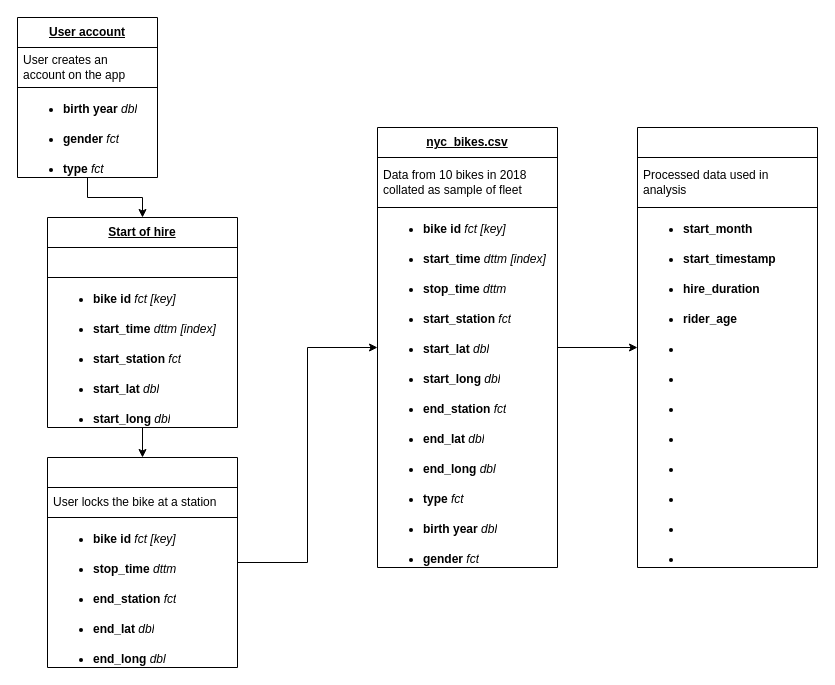
This 835x685 diagram has some shape labels left out. Here are the shapes that lost their labels. From the top down, the box of each, then its label:
(46, 246, 238, 278): User unlocks the bike at a station
(636, 126, 818, 568): nyc_bikes (df)
(46, 456, 238, 668): End of hire
